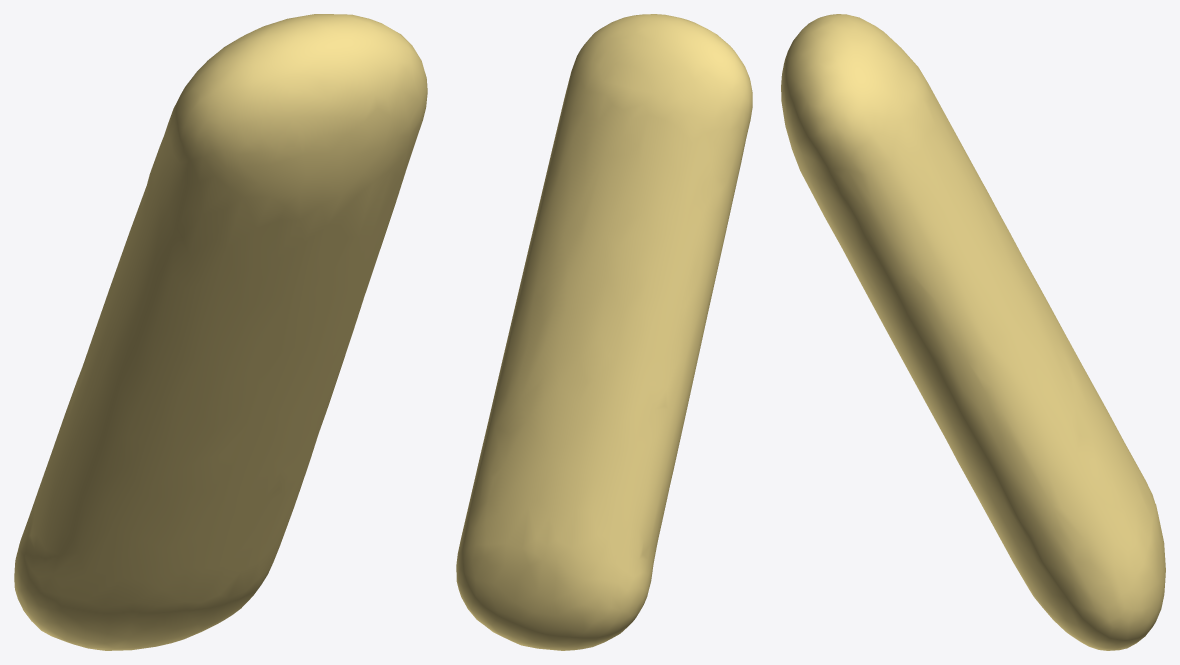
File: fma72439_mm3577.glb
3 renders of one model, left to right at view 1: azimuth 30°, elevation 25°; view 2: azimuth 150°, elevation 25°; view 3: azimuth 270°, elevation 25°, orthographic. The views are drawn at different scales.
Parts seen in each view (by area): view 1: FMA72439_MM3577; view 2: FMA72439_MM3577; view 3: FMA72439_MM3577.
Boxes of the visible parts, bbox=[...] form: FMA72439_MM3577: bbox=[14, 14, 427, 650]; FMA72439_MM3577: bbox=[456, 14, 752, 650]; FMA72439_MM3577: bbox=[781, 14, 1165, 650].
Size of the model in its own units: 0.00347 by 0.00984 by 0.00568.
